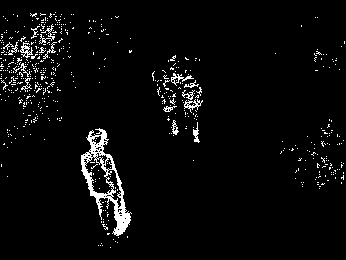person: (79, 128, 131, 249), (180, 77, 205, 145)
